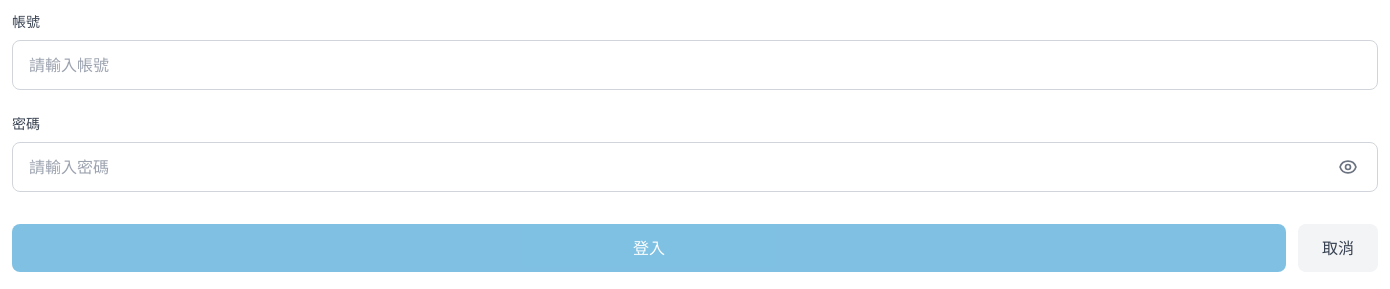
Scenario: LoginForm › 應該在提交時顯示 Loading 狀態
Type "testuser" into the field labelled "帳號" at x=695, y=65, box [12,40,1378,90]
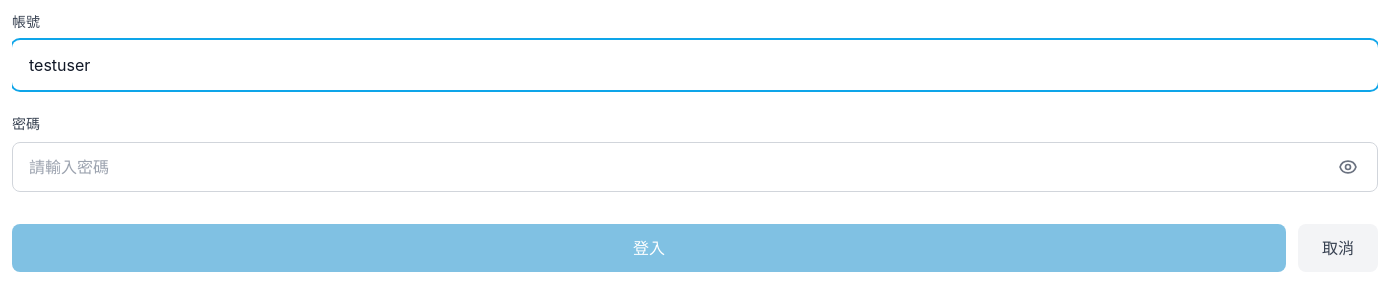
Type "password123" into the password field labelled "密碼" at x=695, y=167, box [12,142,1378,192]
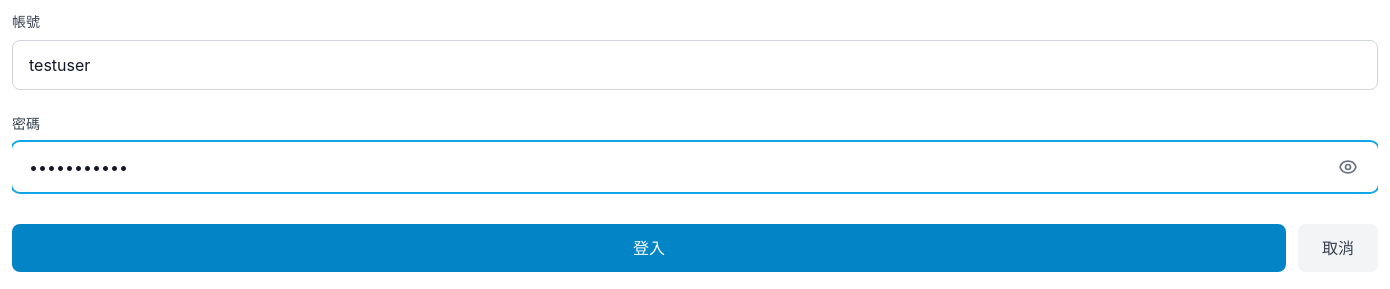
Click the button "登入" at x=649, y=248, box [12,224,1286,272]
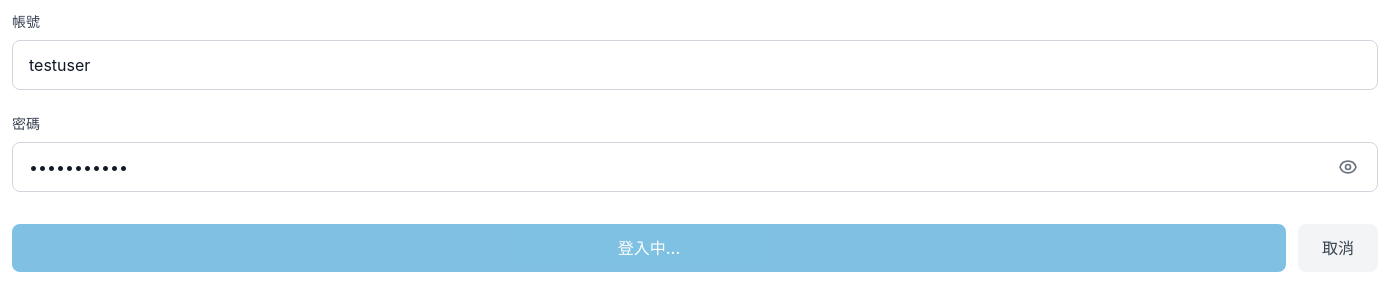
Result: the button "登入中..." is disabled at [12,224,1286,272]
